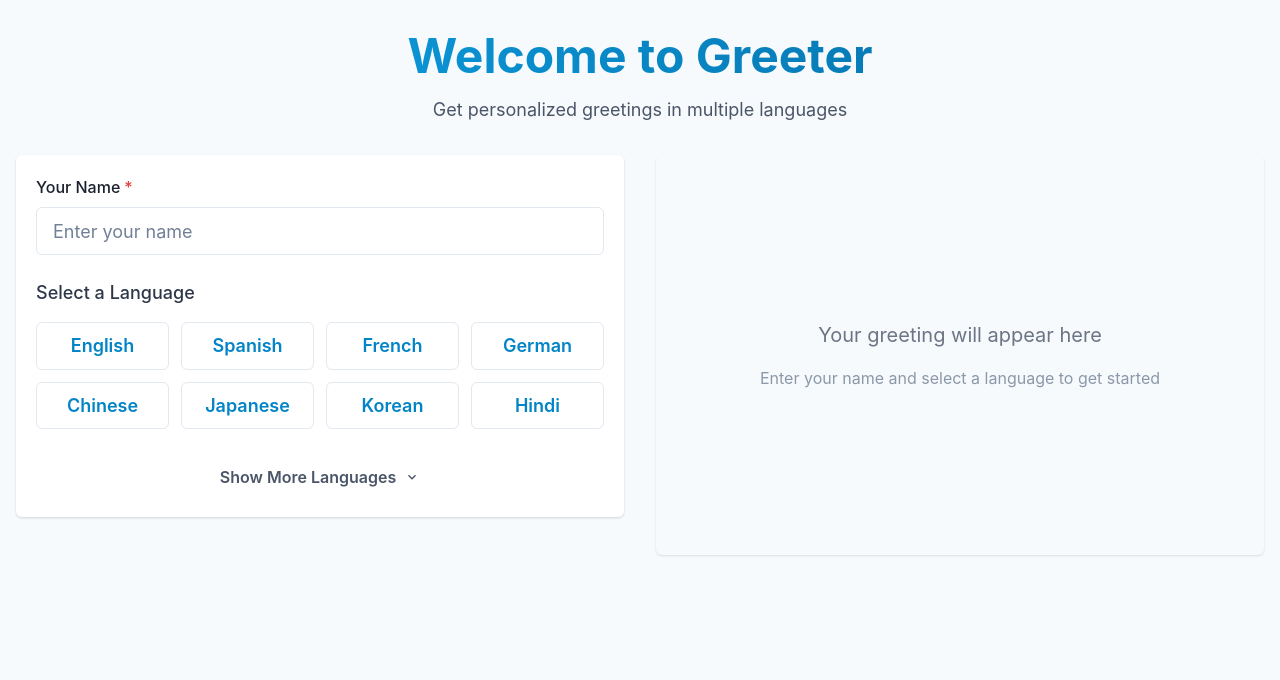
Test case: Home Component › successfully submits greeting request
Note: Enter name
Type "Test" into the field with placeholder "Enter your name" at x=320, y=231, box [36,207,604,255]
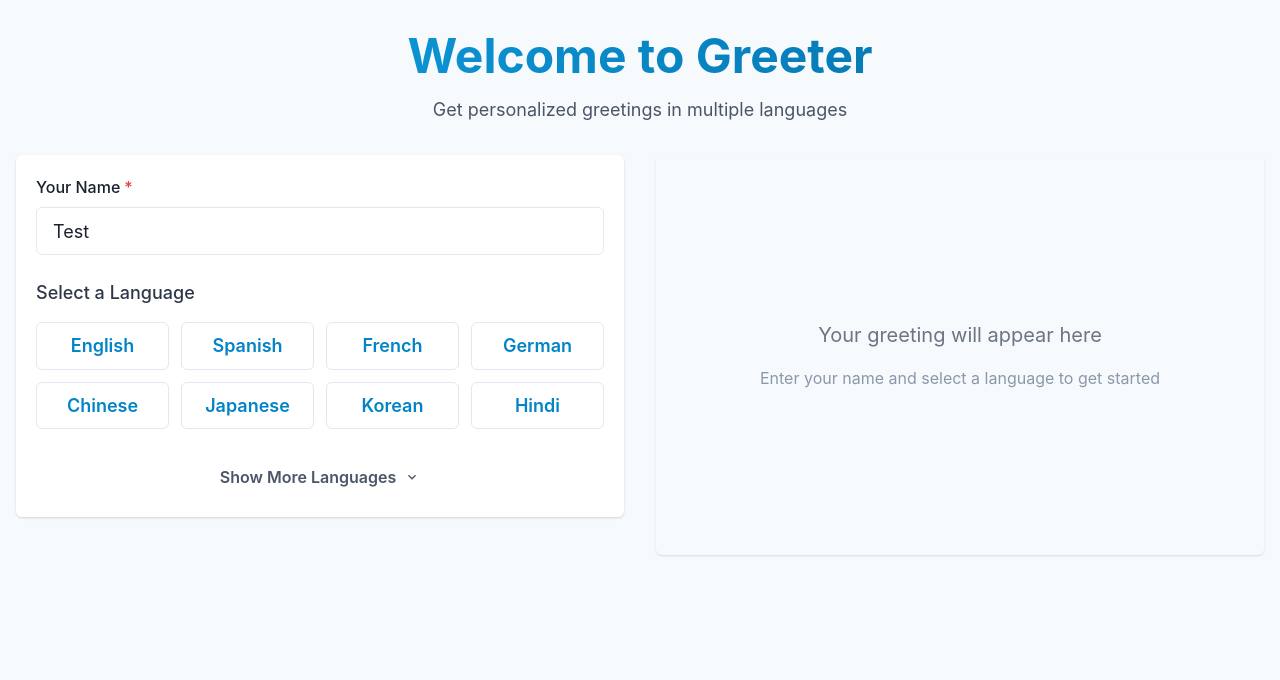
Note: Click language button
Click the button "English" at x=102, y=346, box [36,322,169,370]
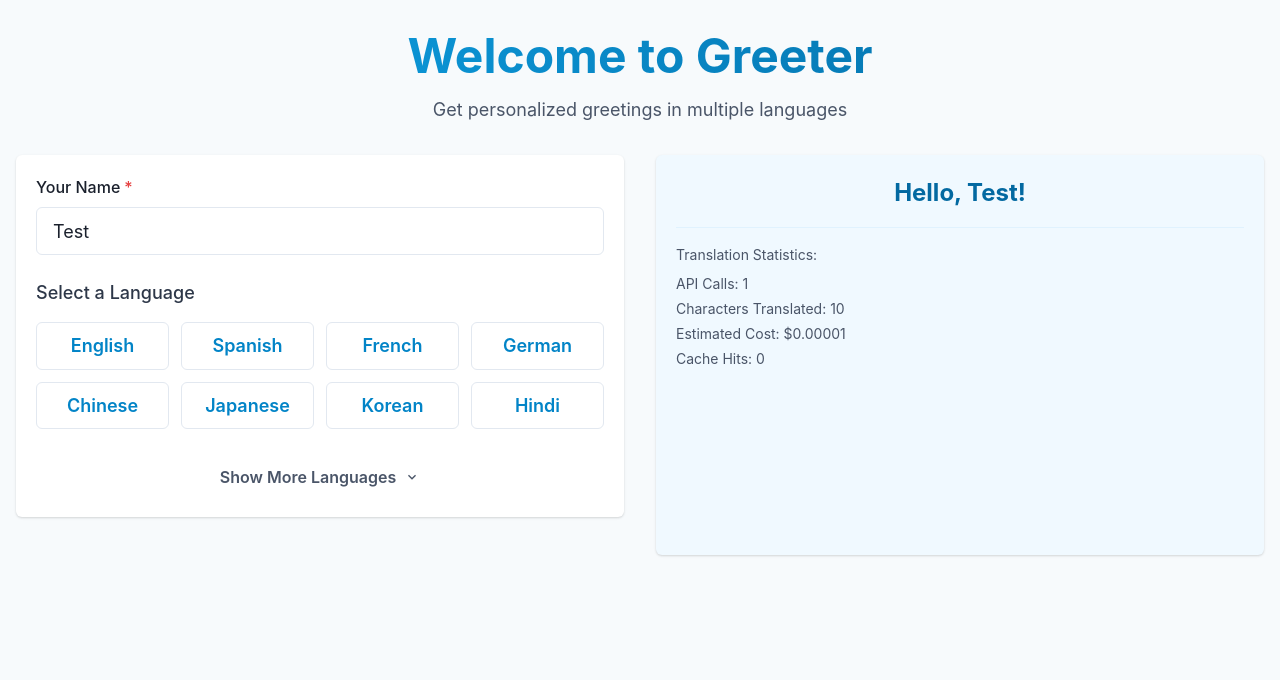
Now the text "Hello, Test!" is shown, box [894,178,1026,207]
Now the text "Translation Statistics:" is shown, box [676,246,817,263]
Now the text "API Calls: 1" is shown, box [676,275,748,292]
